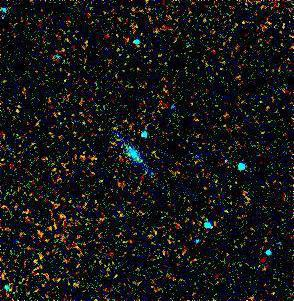star: (67, 139, 97, 169)
